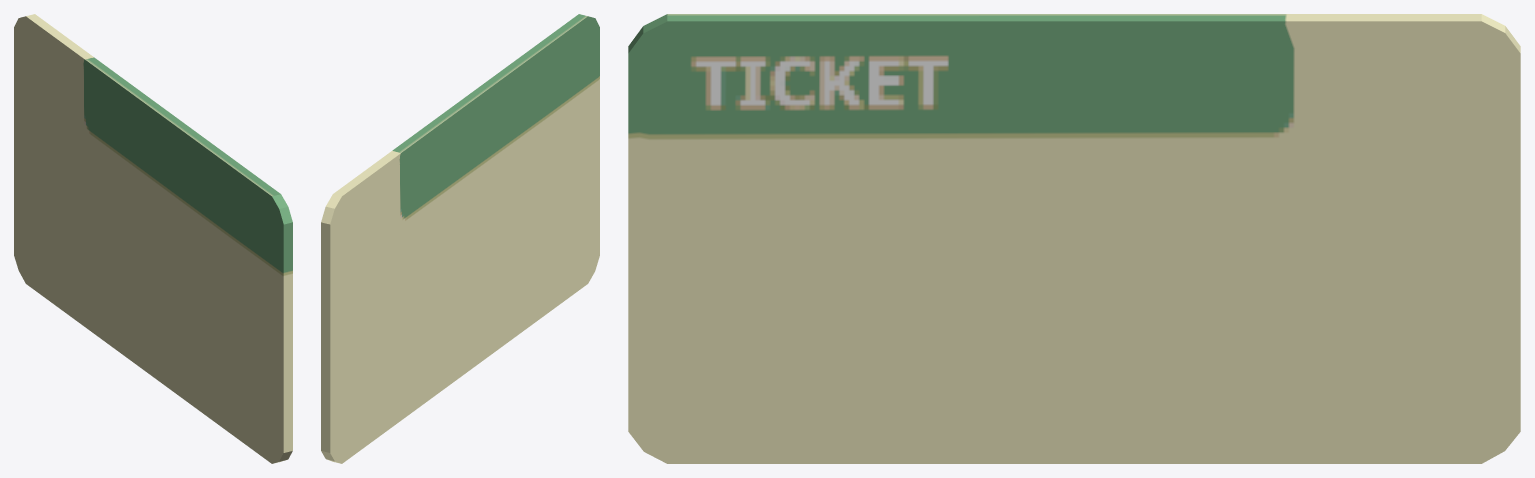
The model's file is ticket.glb.
The picture shows the model from 3 angles, left to right: view 1: azimuth 30°, elevation 25°; view 2: azimuth 150°, elevation 25°; view 3: azimuth 270°, elevation 25°; orthographic projection. The views are drawn at different scales.
Parts seen in each view (by area): view 1: Ticket; view 2: Ticket; view 3: Ticket.
Part boxes in pixels (bbox=[...]): Ticket: bbox=[14, 14, 292, 463]; Ticket: bbox=[321, 14, 599, 463]; Ticket: bbox=[628, 14, 1520, 463].
Size of the model in its own units: 0.00642 by 0.1789 by 0.3269.
1 material, 1 textured.
